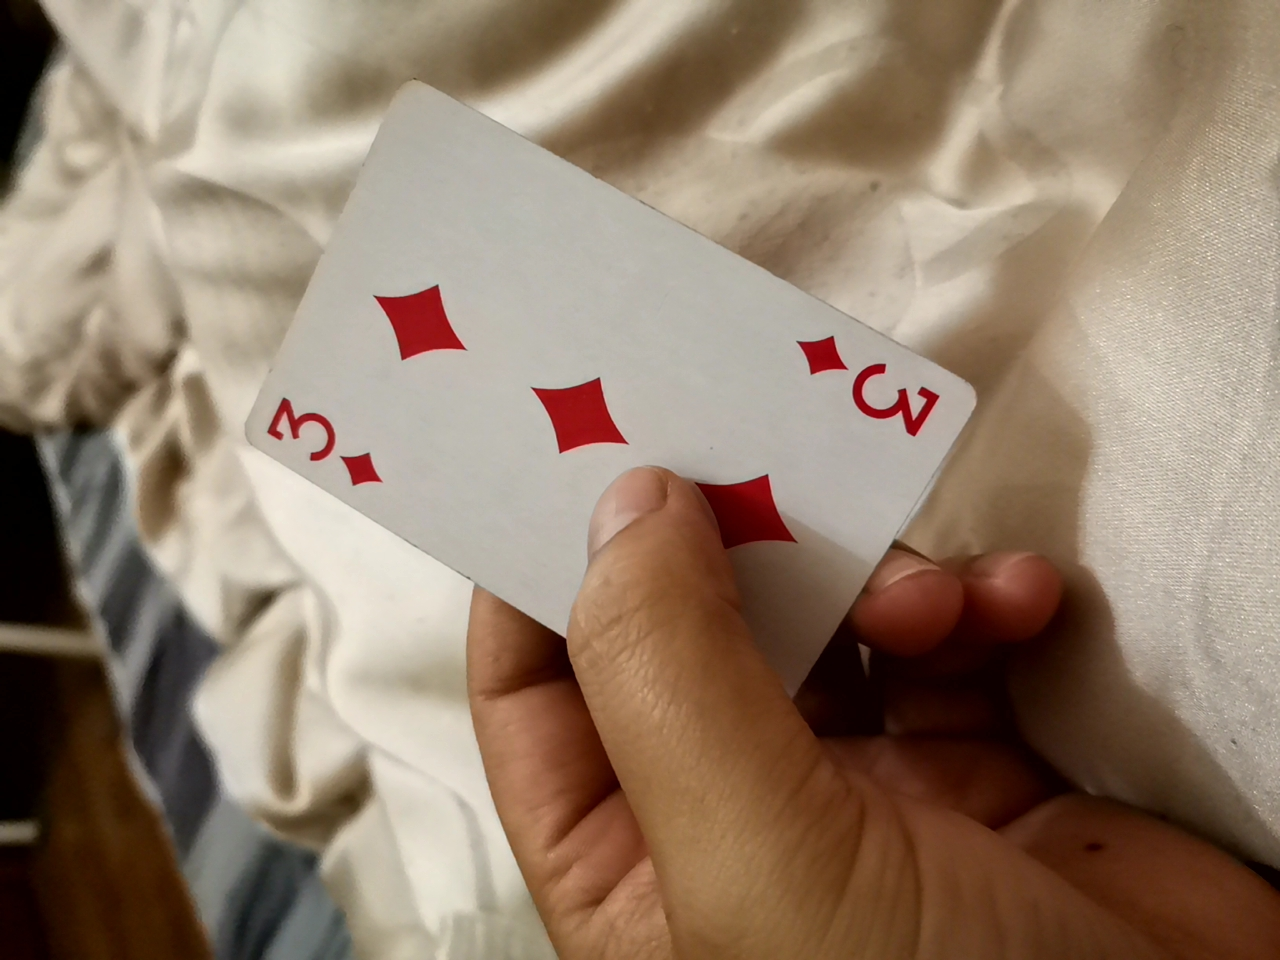fk 3: (190, 52, 1020, 701)
